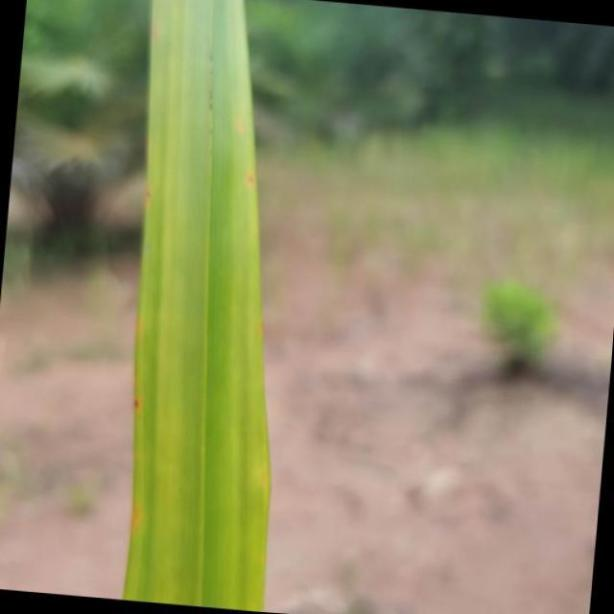nitrogen: (112, 0, 273, 614)
